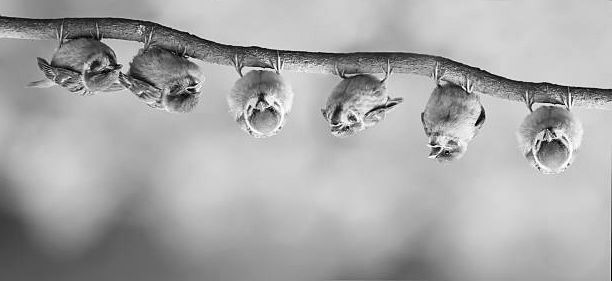Bird: (217, 50, 299, 143), (120, 30, 208, 115), (418, 61, 489, 165), (25, 22, 123, 95), (318, 57, 403, 138), (514, 83, 587, 176)
